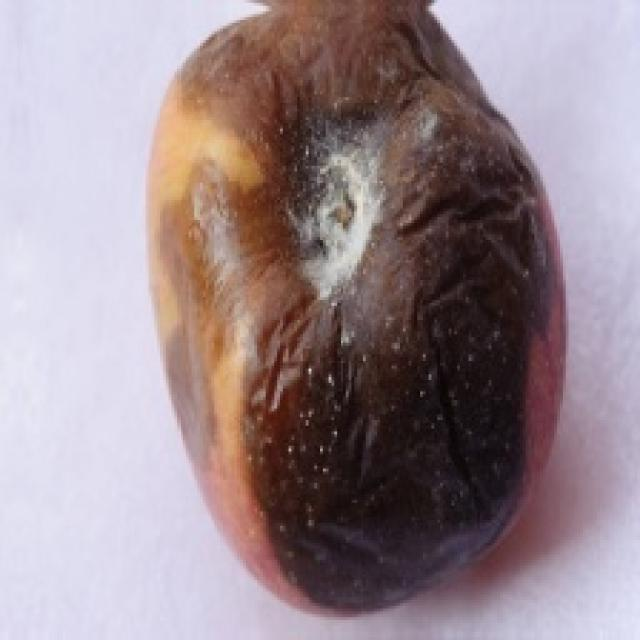rotten_apple: (154, 18, 562, 612)
